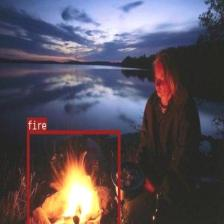fire: (27, 129, 120, 224)
